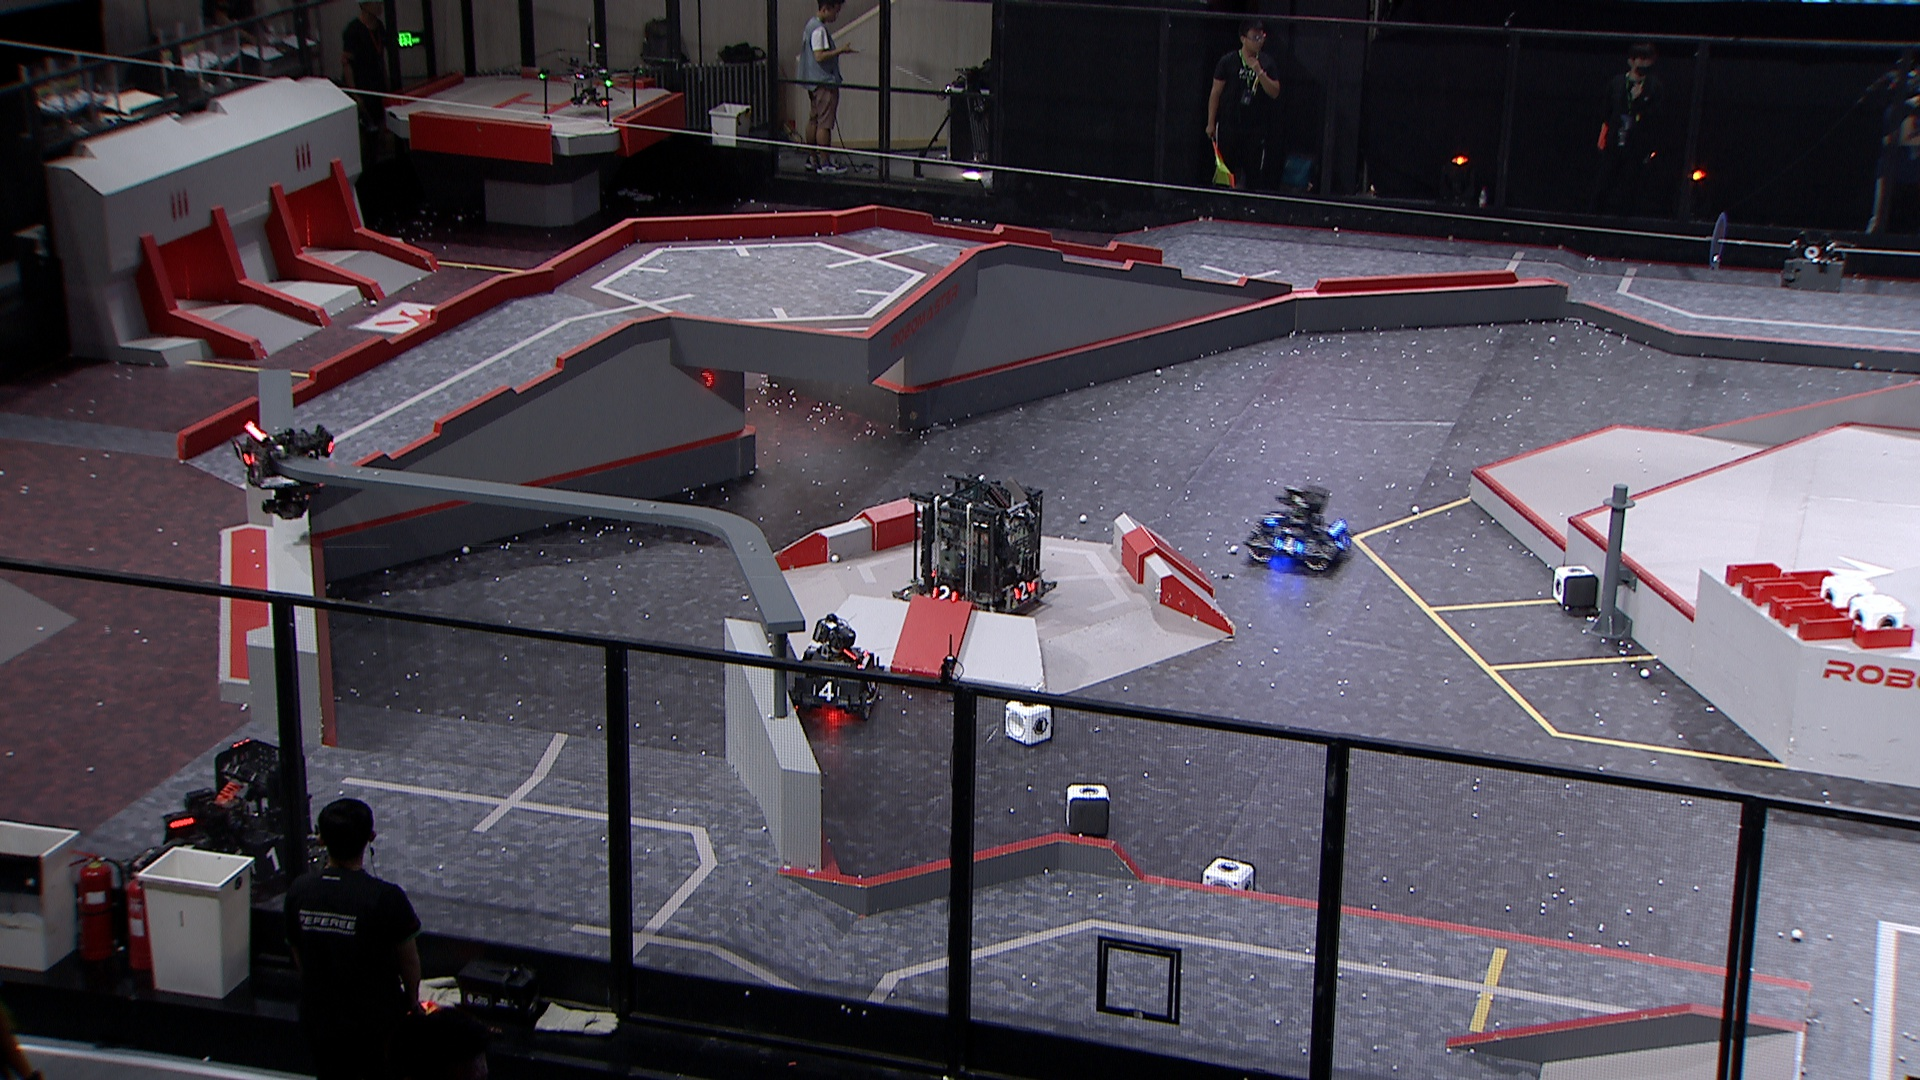armor: (247, 845, 287, 877), (1273, 531, 1305, 560), (812, 680, 845, 705), (231, 436, 256, 467), (930, 584, 960, 603), (1011, 580, 1036, 600), (1262, 509, 1284, 524)
car: (124, 733, 334, 905), (891, 473, 1058, 618), (782, 615, 882, 723), (1242, 483, 1353, 575)
watcher: (229, 419, 338, 524)
